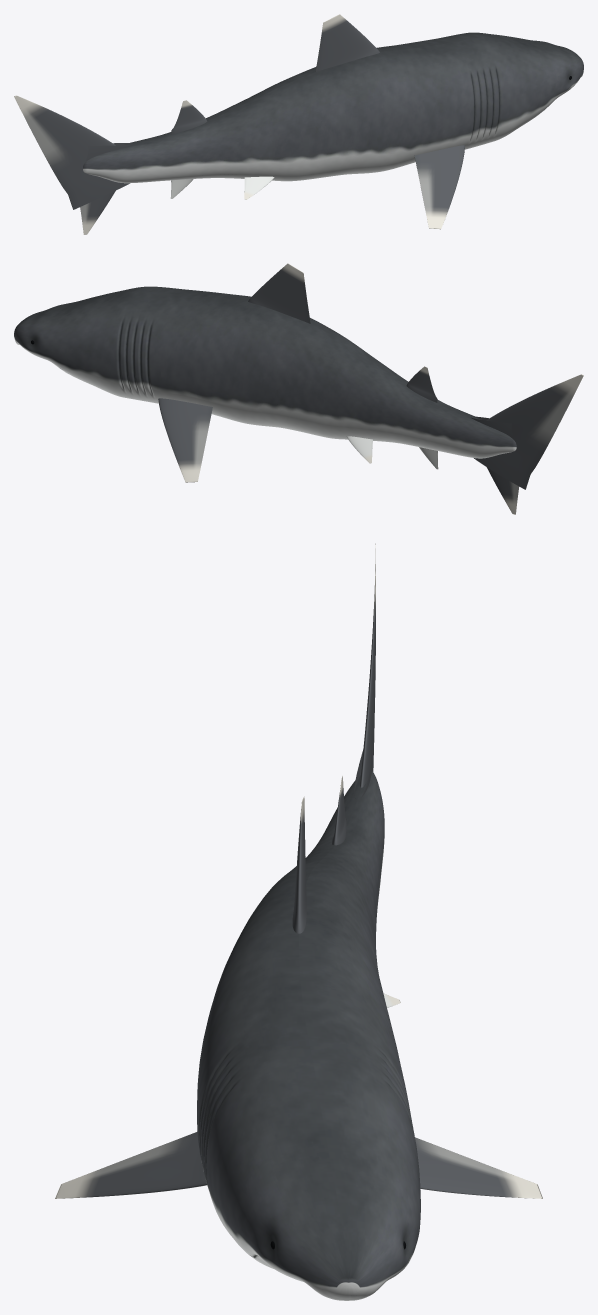
Rendered from silvertip_shark.glb.
3 views of the same model, one above another, from view 1: azimuth 30°, elevation 25°; view 2: azimuth 150°, elevation 25°; view 3: azimuth 270°, elevation 25° (orthographic). The views are drawn at different scales.
Parts seen in each view (by area): view 1: silvertip_shark_Body, silvertip_shark_Fins; view 2: silvertip_shark_Body, silvertip_shark_Fins; view 3: silvertip_shark_Body, silvertip_shark_Fins.
Boxes of the visible parts, <box> form: silvertip_shark_Body: <box>83,32,583,183</box>; silvertip_shark_Fins: <box>14,14,464,234</box>; silvertip_shark_Body: <box>14,286,516,458</box>; silvertip_shark_Fins: <box>158,263,583,514</box>; silvertip_shark_Body: <box>197,771,420,1300</box>; silvertip_shark_Fins: <box>55,543,542,1198</box>.
Bounding box in the file's own units: 2.2 × 0.6737 × 0.8301.
Materials: 3 (1 with a texture image).
